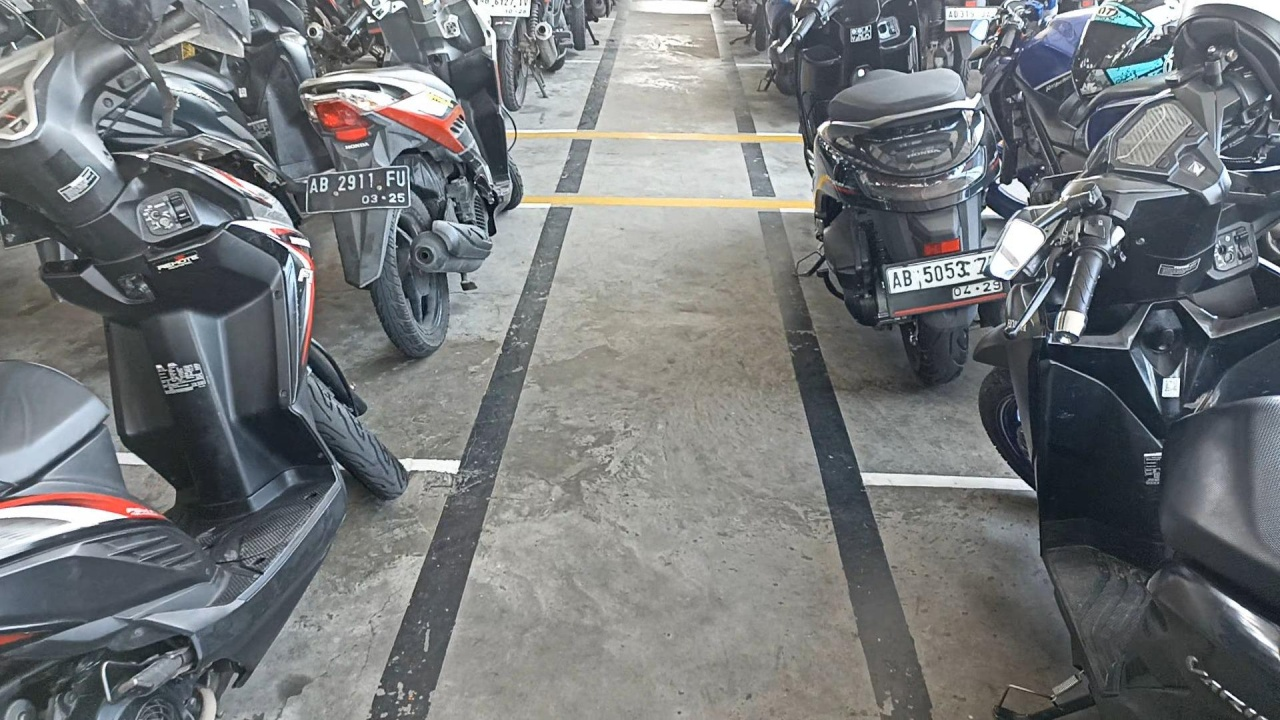plate: (307, 165, 410, 214)
